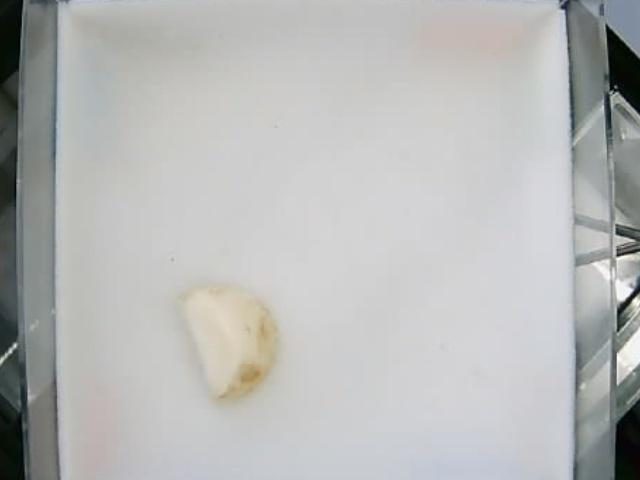Mooli: (182, 284, 279, 404)
